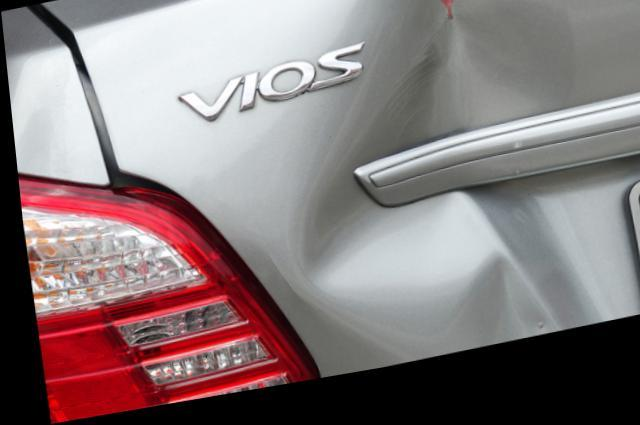dent: (287, 0, 573, 362)
